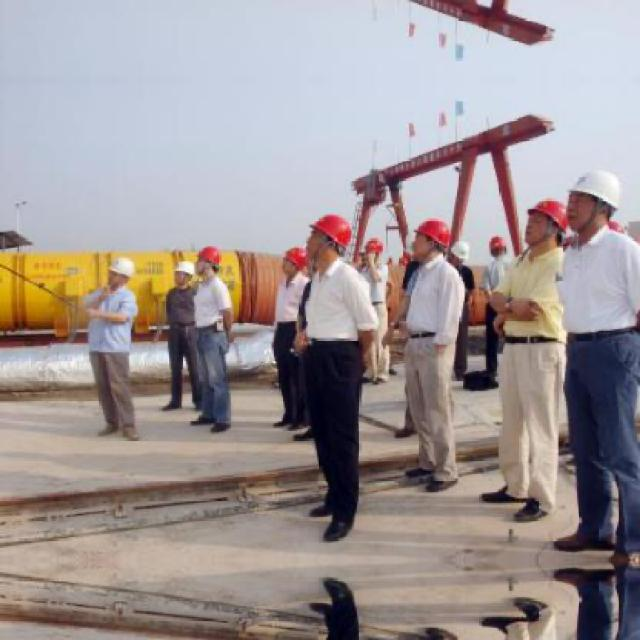con casco: (295, 184, 378, 269), (506, 182, 584, 270), (396, 202, 478, 280), (550, 158, 626, 237), (78, 252, 150, 289)
